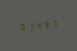four: (34, 20, 41, 30)
nine: (42, 19, 49, 30)
one: (26, 21, 33, 31)
seven: (50, 18, 57, 29)
zero: (18, 21, 25, 32)
